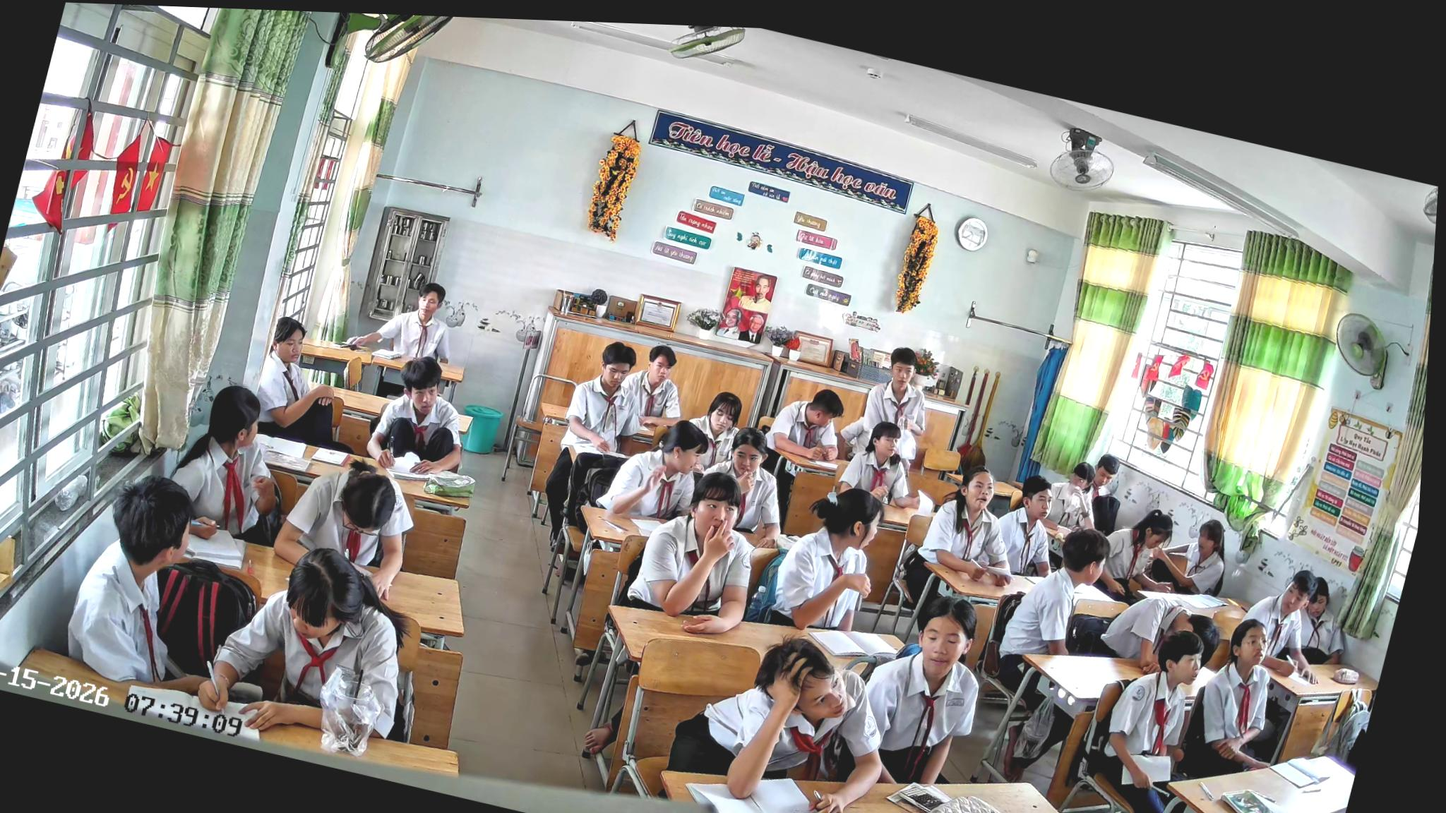person: (188, 523, 437, 763), (655, 610, 914, 813), (55, 463, 255, 705), (839, 579, 1008, 801), (1060, 614, 1238, 813), (615, 455, 782, 646), (144, 371, 313, 555), (529, 332, 663, 562), (892, 454, 1041, 635), (265, 447, 430, 605), (986, 513, 1118, 709), (1173, 608, 1302, 795), (761, 472, 898, 644), (240, 312, 386, 458), (335, 264, 469, 410), (741, 377, 855, 544), (360, 347, 487, 487), (833, 336, 949, 477), (1224, 556, 1347, 688), (688, 419, 805, 554), (593, 404, 714, 533), (1091, 583, 1229, 693), (1089, 498, 1206, 617), (829, 413, 940, 520), (981, 466, 1074, 584), (1142, 507, 1238, 605), (612, 337, 699, 436), (677, 385, 752, 481), (1288, 576, 1360, 672), (1063, 446, 1134, 535), (1041, 455, 1116, 537)
